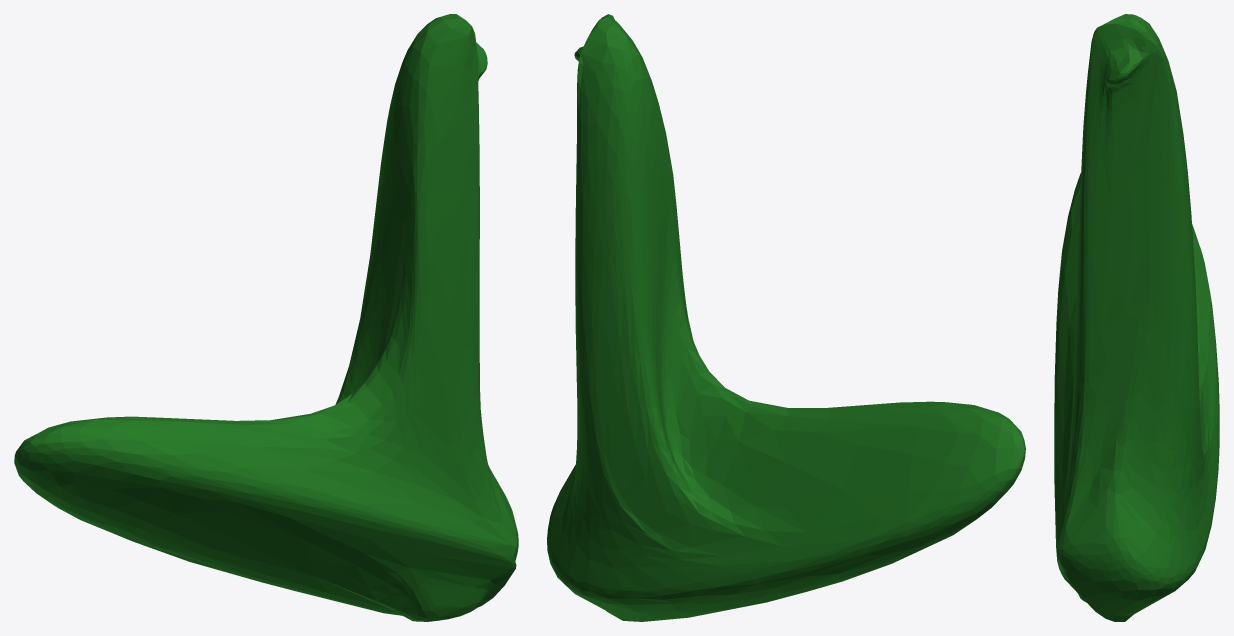
The picture shows the model from 3 angles, left to right: view 1: azimuth 30°, elevation 25°; view 2: azimuth 150°, elevation 25°; view 3: azimuth 270°, elevation 25°; orthographic projection. The views are drawn at different scales.
Visible parts, largest first — view 1: 157_Cube.656; view 2: 157_Cube.656; view 3: 157_Cube.656.
Boxes of the visible parts, <box> form: 157_Cube.656: <box>14,14,518,621</box>; 157_Cube.656: <box>547,14,1025,621</box>; 157_Cube.656: <box>1054,14,1219,621</box>.
Bounding box in the file's own units: 10.01 × 11.91 × 2.95.
